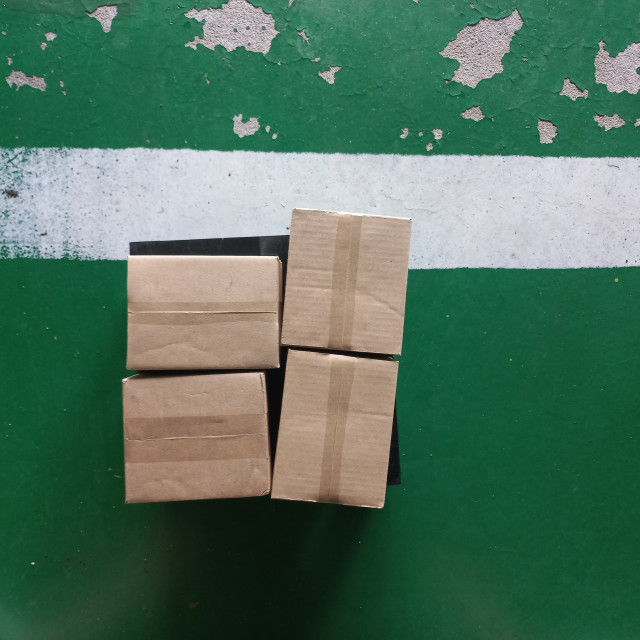box: (268, 346, 399, 511), (118, 368, 274, 506), (277, 205, 416, 358), (123, 249, 286, 373)
